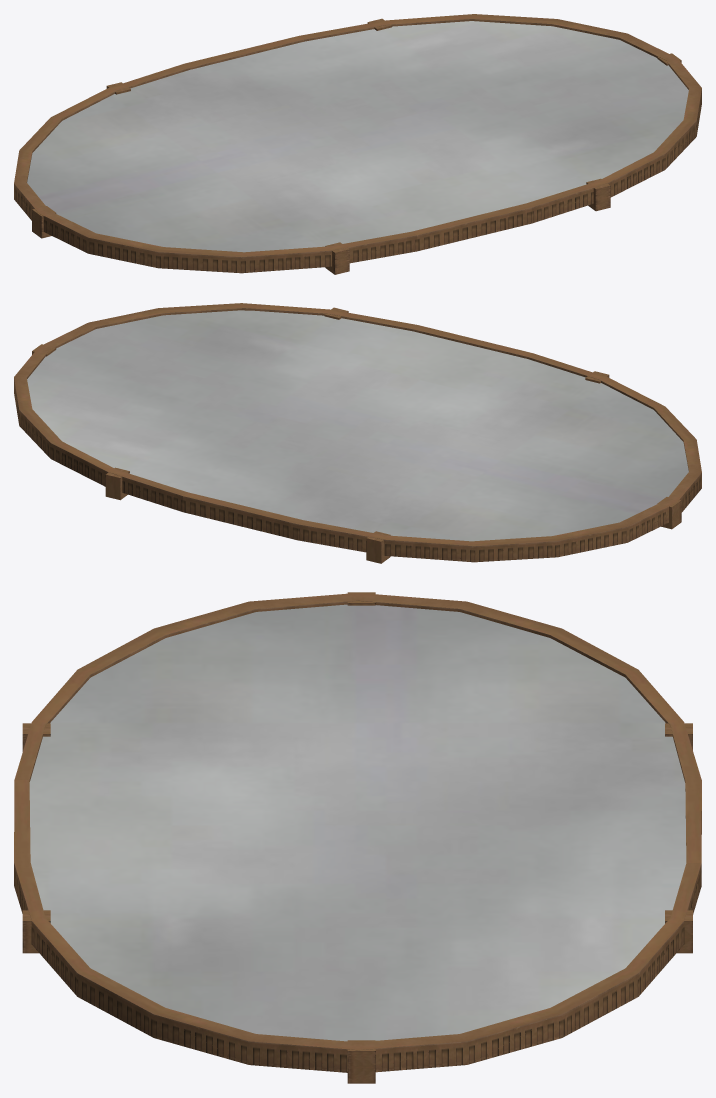
Rendered from roof paint.fbx.
The picture shows the model from 3 angles, top to bottom: view 1: azimuth 30°, elevation 25°; view 2: azimuth 150°, elevation 25°; view 3: azimuth 270°, elevation 25°; orthographic projection. The views are drawn at different scales.
Parts seen in each view (by area): view 1: pCylinder65, polySurface639; view 2: pCylinder65, polySurface639; view 3: pCylinder65, polySurface639.
Part boxes in pixels (left/top/right/bottom): pCylinder65: left=27, top=21, right=688, bottom=252; polySurface639: left=14, top=14, right=701, bottom=274; pCylinder65: left=27, top=310, right=688, bottom=541; polySurface639: left=14, top=303, right=701, bottom=563; pCylinder65: left=29, top=604, right=686, bottom=1041; polySurface639: left=14, top=592, right=701, bottom=1083.
Bounding box in the file's own units: 1873 × 62.32 × 1188.
Materials: 2 (2 with a texture image).
